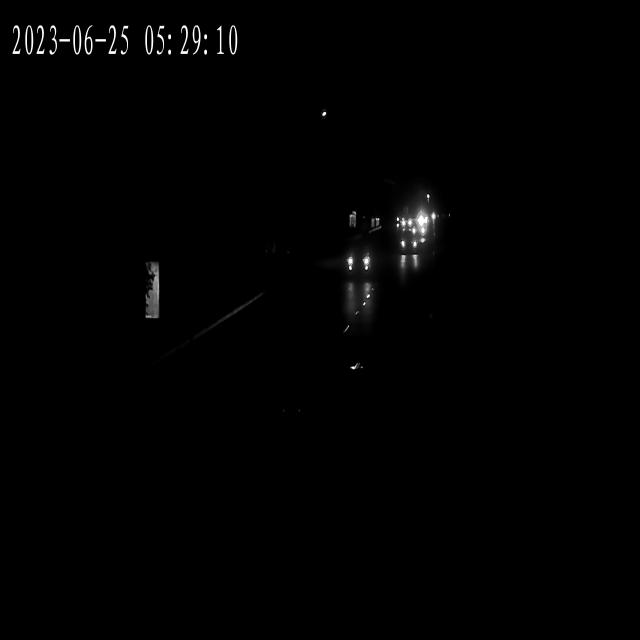Car: (344, 236, 374, 286), (401, 232, 422, 263), (414, 215, 431, 236), (403, 212, 415, 231)
